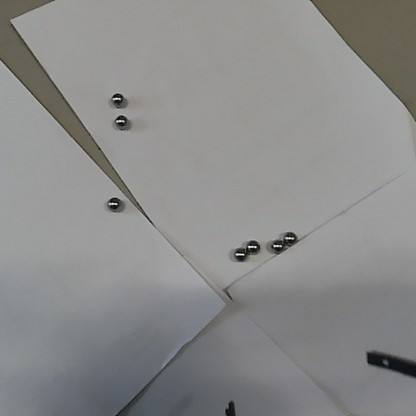ironball: (106, 196, 120, 210), (113, 113, 126, 127), (283, 230, 296, 244), (233, 247, 245, 260), (246, 240, 258, 253), (111, 90, 121, 105), (270, 240, 282, 252)
